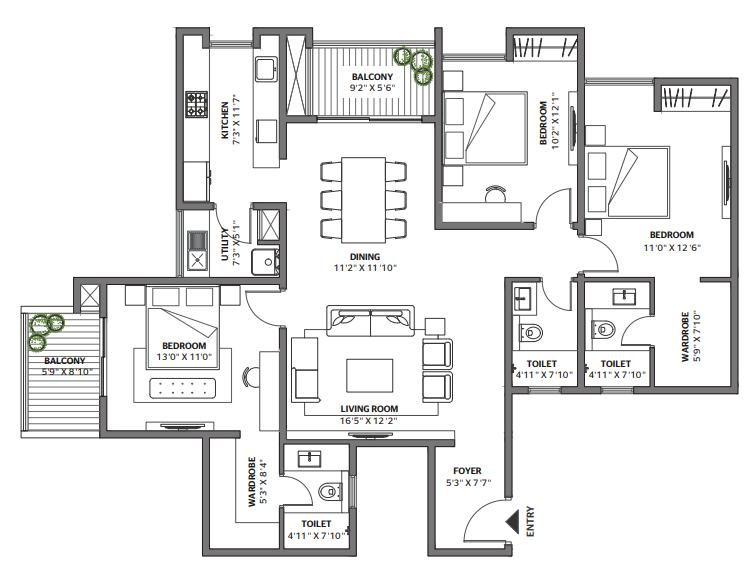Balcony: (280, 33, 438, 120), (24, 313, 100, 428)
Bed: (147, 283, 220, 372), (580, 148, 670, 220), (443, 90, 524, 163)
Bedroom: (585, 82, 730, 282), (109, 283, 285, 441), (444, 58, 582, 221), (458, 499, 507, 539), (540, 279, 572, 311)
Dining Room: (288, 126, 440, 298)
Dining table: (316, 149, 415, 248)
Foyer: (440, 452, 504, 547)
Kitchen: (184, 38, 279, 197)
Living Room: (283, 289, 512, 443), (444, 225, 578, 283)
Sofa: (328, 305, 415, 340), (422, 335, 455, 400), (293, 369, 325, 403)
Wardrobe: (641, 279, 737, 385), (204, 438, 284, 550), (293, 388, 413, 418), (651, 78, 731, 117), (514, 33, 577, 61)
commode: (516, 325, 544, 344), (319, 482, 343, 502), (590, 323, 613, 340)
door: (243, 291, 283, 328), (215, 203, 249, 243), (535, 189, 569, 227), (583, 239, 617, 275), (620, 312, 652, 349), (283, 477, 315, 507)
fridge: (183, 160, 210, 203)
kitchen-slab: (180, 36, 212, 160)
sink: (255, 59, 277, 83), (297, 449, 320, 469), (513, 287, 533, 309), (612, 291, 634, 306)
stove: (186, 92, 207, 119)
toilet: (280, 443, 350, 552), (510, 283, 578, 385), (588, 281, 650, 386)
tv: (286, 429, 455, 443), (564, 91, 579, 166), (143, 421, 215, 434)
utility: (183, 203, 279, 274)
washing-machine: (251, 249, 279, 274)
